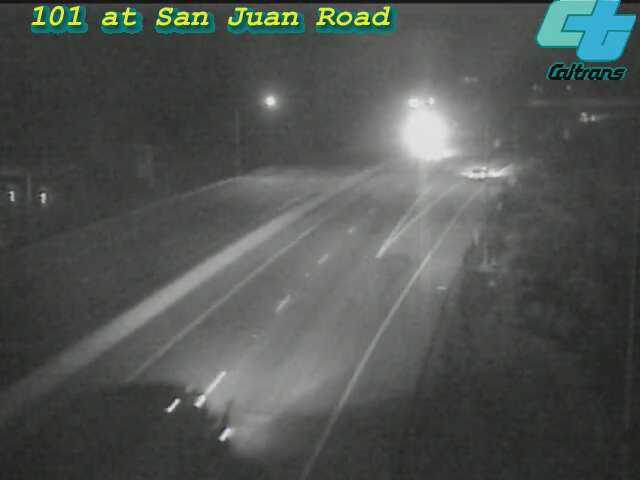vehicle: (69, 392, 179, 480), (440, 132, 520, 212), (394, 106, 444, 156), (560, 92, 610, 142), (422, 123, 472, 173)
